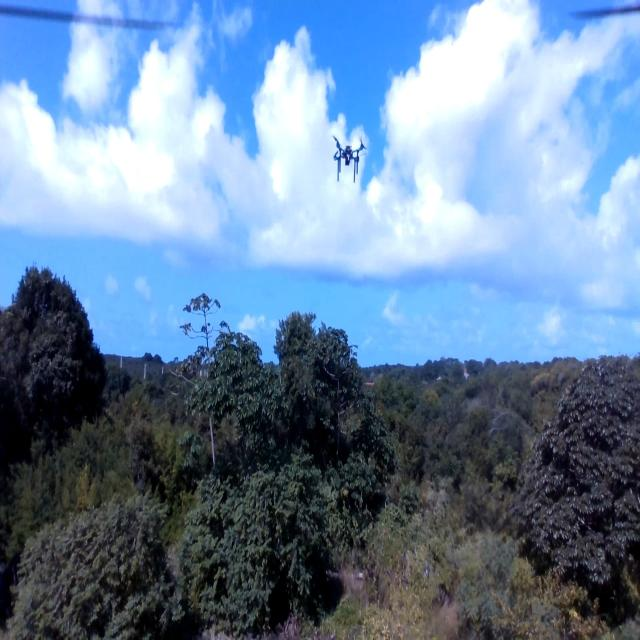-uav-: (323, 123, 377, 197)
